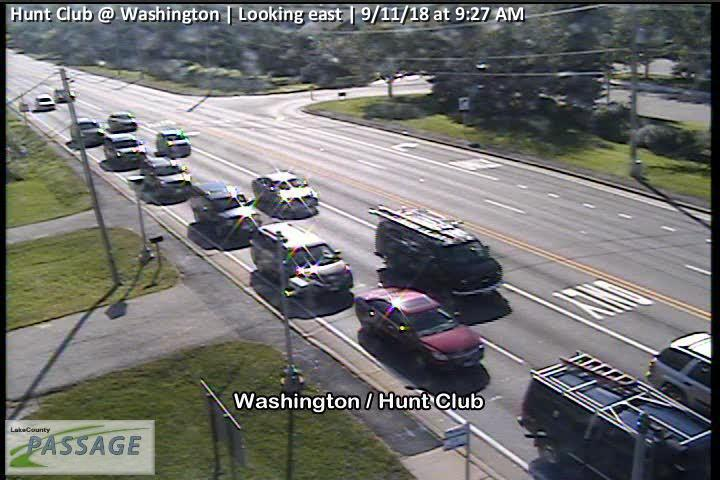SUV: (515, 347, 711, 479), (365, 203, 503, 297), (250, 220, 354, 297), (190, 181, 261, 237), (140, 156, 192, 198), (101, 134, 147, 170), (71, 118, 104, 150), (155, 131, 191, 157)
Sedan: (355, 287, 485, 369), (252, 171, 321, 220), (107, 111, 137, 135), (34, 93, 56, 112)
